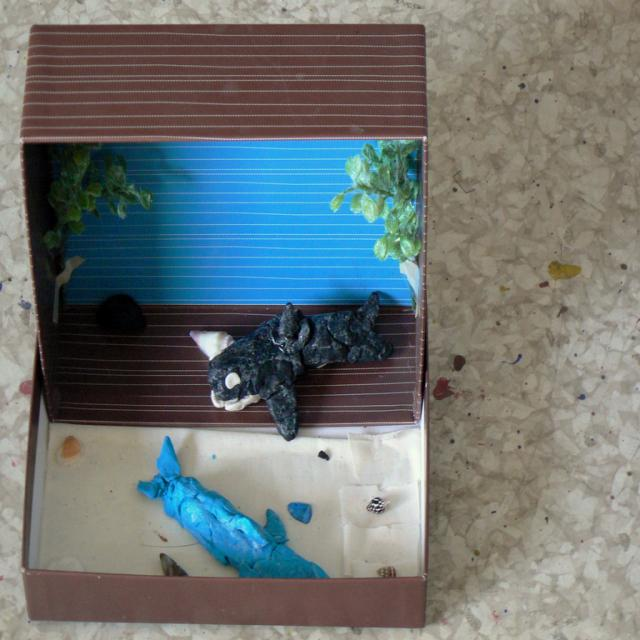Box: (0, 61, 433, 462), (14, 320, 430, 628)
